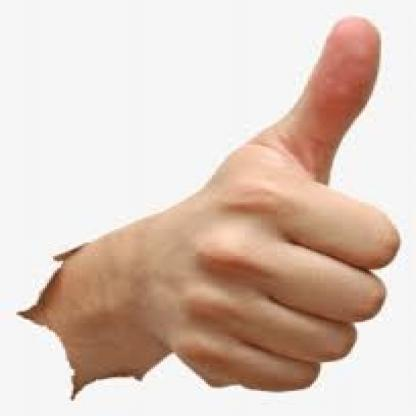thumb_up: (149, 12, 404, 394)
